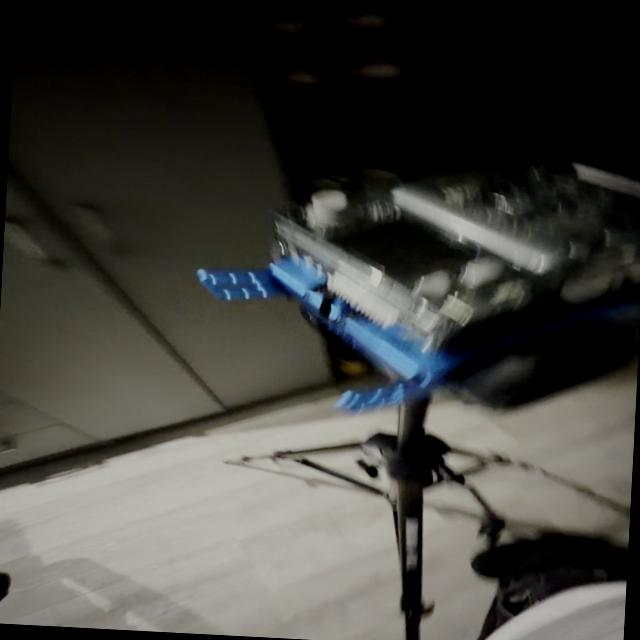mbot-detection: (175, 119, 640, 433)
